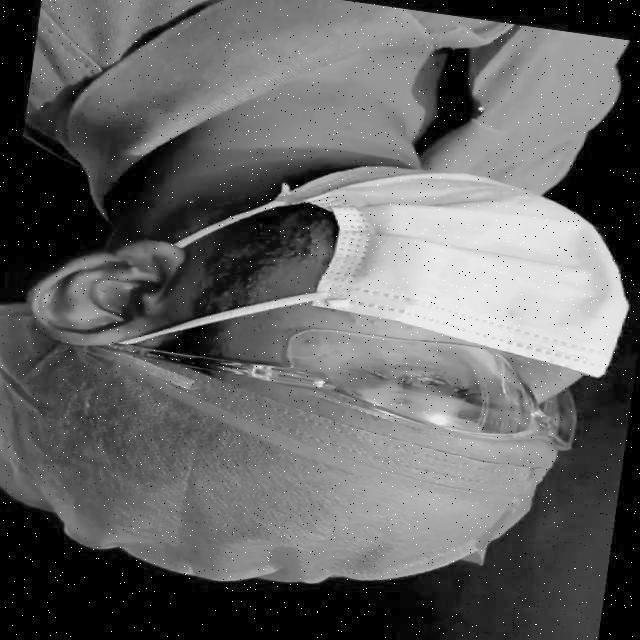gloves: (0, 366, 547, 596)
mask: (262, 158, 640, 384)
